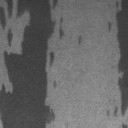red iron: (0, 0, 58, 128), (114, 0, 128, 118), (0, 6, 14, 46), (4, 0, 14, 18), (59, 16, 64, 40), (108, 21, 112, 32), (78, 35, 82, 45), (122, 122, 128, 128), (53, 80, 57, 88)
